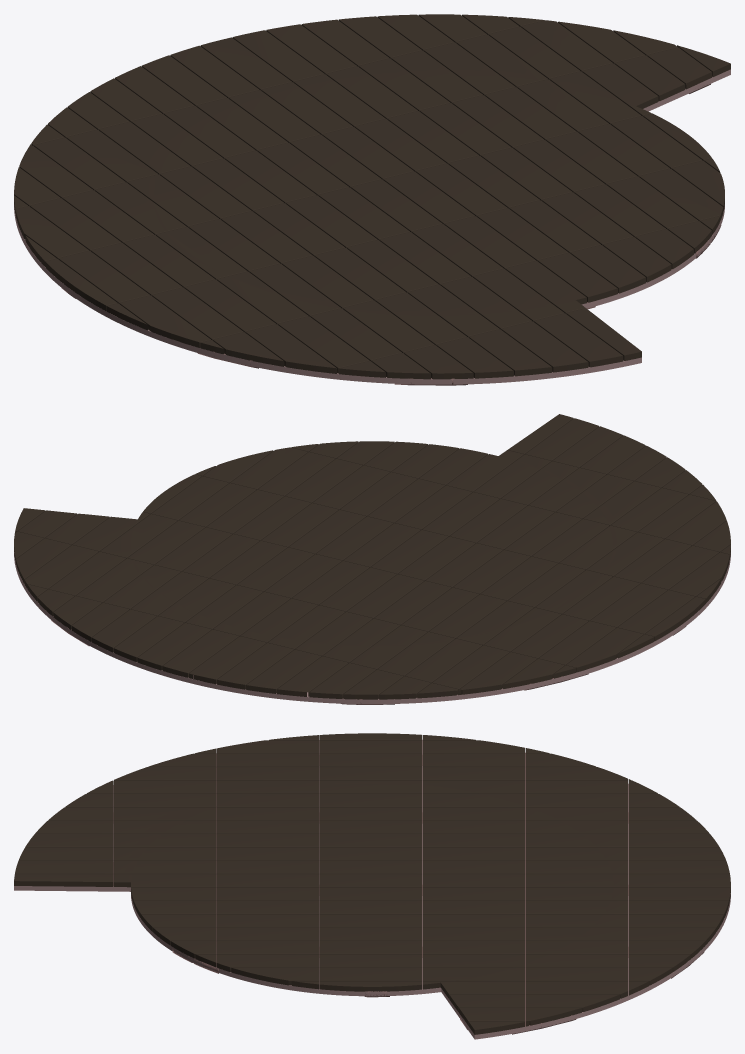
Rendered from Middle-First-Floor.fbx.
3 views of the same model, one above another, from view 1: azimuth 30°, elevation 25°; view 2: azimuth 150°, elevation 25°; view 3: azimuth 270°, elevation 25° (orthographic). The views are drawn at different scales.
Parts seen in each view (by area): view 1: Parquet, Left, Center; view 2: Parquet, Right, Left; view 3: Parquet, Center, Right, Grid, Left.
Boxes of the visible parts, x1,y1,x2,y2 form: Parquet: [14, 14, 730, 379]; Left: [14, 205, 641, 384]; Center: [581, 204, 724, 308]; Parquet: [14, 414, 730, 699]; Right: [14, 552, 488, 704]; Left: [489, 553, 730, 695]; Parquet: [14, 733, 730, 1034]; Center: [131, 790, 441, 996]; Right: [441, 783, 730, 1039]; Grid: [113, 752, 704, 1034]; Left: [14, 739, 422, 891].
Bounding box in the file's own units: 1371 × 22.15 × 1400.
